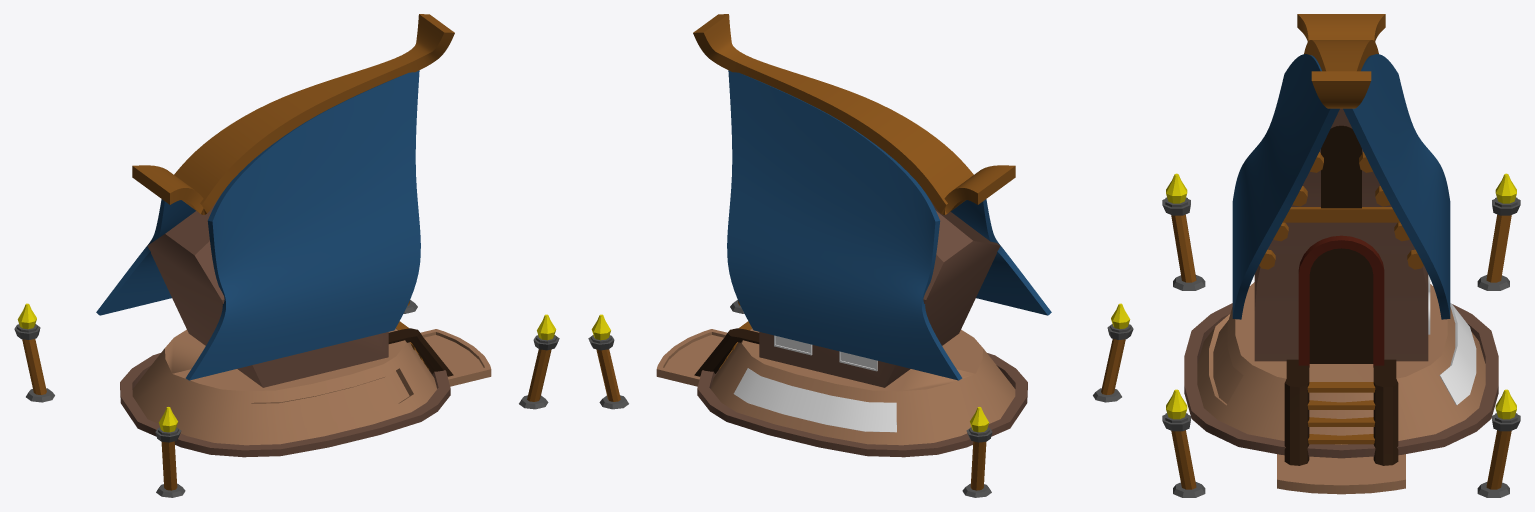
The model's file is Home3.fbx.
The picture shows the model from 3 angles, left to right: view 1: azimuth 30°, elevation 25°; view 2: azimuth 150°, elevation 25°; view 3: azimuth 270°, elevation 25°; orthographic projection. The views are drawn at different scales.
Visible parts, largest first — view 1: Cube.003, Cube, Cube.004, Cube.002, Cube.009, Cube.008, Cylinder.003, Cylinder.001, Cylinder.005, Cylinder.002, Cylinder.004; view 2: Cube.003, Cube, Cube.004, Cube.002, Cube.009, Cube.001, Cube.008, Cylinder.003, Cylinder.001, Cylinder.005, Cylinder.002, Cube.010 (+1 smaller); view 3: Cube.003, Cube, Cube.002, Cube.009, Cube.011, Cube.004, Cylinder.001, Cube.008, Cylinder.003, Cube.006, Cube.012, Cube.007 (+6 smaller).
Boxes of the visible parts, box(x1,y1,x2,y2) form: Cube.003: box(96, 70, 420, 380); Cube: box(132, 328, 436, 445); Cube.004: box(132, 14, 454, 214); Cube.002: box(147, 198, 388, 387); Cube.009: box(120, 353, 450, 457); Cube.008: box(420, 329, 491, 386); Cylinder.003: box(22, 300, 551, 490); Cylinder.001: box(388, 328, 453, 376); Cylinder.005: box(17, 303, 556, 432); Cylinder.002: box(26, 300, 548, 497); Cylinder.004: box(14, 324, 559, 442); Cube.003: box(727, 70, 1051, 380); Cube: box(711, 328, 1015, 445); Cube.004: box(693, 14, 1015, 214); Cube.002: box(759, 198, 1000, 387); Cube.009: box(697, 353, 1027, 457); Cube.001: box(733, 368, 896, 432); Cube.008: box(656, 329, 727, 386); Cylinder.003: box(596, 300, 1125, 490); Cylinder.001: box(694, 328, 759, 376); Cylinder.005: box(591, 303, 1130, 432); Cylinder.002: box(599, 300, 1121, 497); Cube.010: box(774, 335, 877, 371); Cube.003: box(1232, 54, 1450, 319); Cube: box(1197, 282, 1485, 444); Cube.002: box(1254, 108, 1428, 361); Cube.009: box(1184, 303, 1498, 458); Cube.011: box(1309, 248, 1373, 363); Cube.004: box(1297, 14, 1385, 108); Cylinder.001: box(1284, 359, 1398, 465); Cube.008: box(1277, 454, 1405, 494); Cylinder.003: box(1171, 214, 1511, 489); Cube.006: box(1298, 235, 1384, 367); Cube.012: box(1321, 125, 1361, 208); Cube.007: box(1307, 382, 1375, 444).
Bounding box in the file's own units: 1303 × 1064 × 866.
